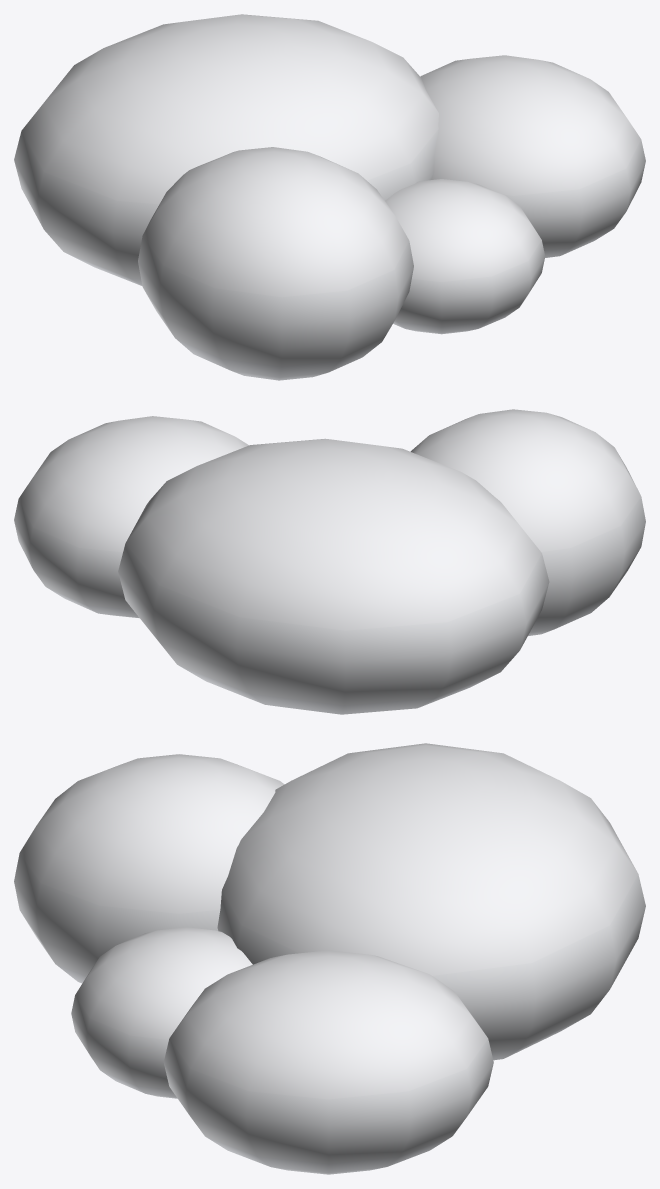
Rendered from bush-55_col.fbx.
The picture shows the model from 3 angles, top to bottom: view 1: azimuth 30°, elevation 25°; view 2: azimuth 150°, elevation 25°; view 3: azimuth 270°, elevation 25°; orthographic projection. The views are drawn at different scales.
Parts seen in each view (by area): view 1: bush-55.col; view 2: bush-55.col; view 3: bush-55.col.
Part boxes in pixels (x1,y1,x2,y2): bush-55.col: [14, 14, 645, 380]; bush-55.col: [14, 409, 645, 714]; bush-55.col: [14, 743, 645, 1174].
Bounding box in the file's own units: 0.4055 × 0.1595 × 0.3676.
1 material, 1 textured.
